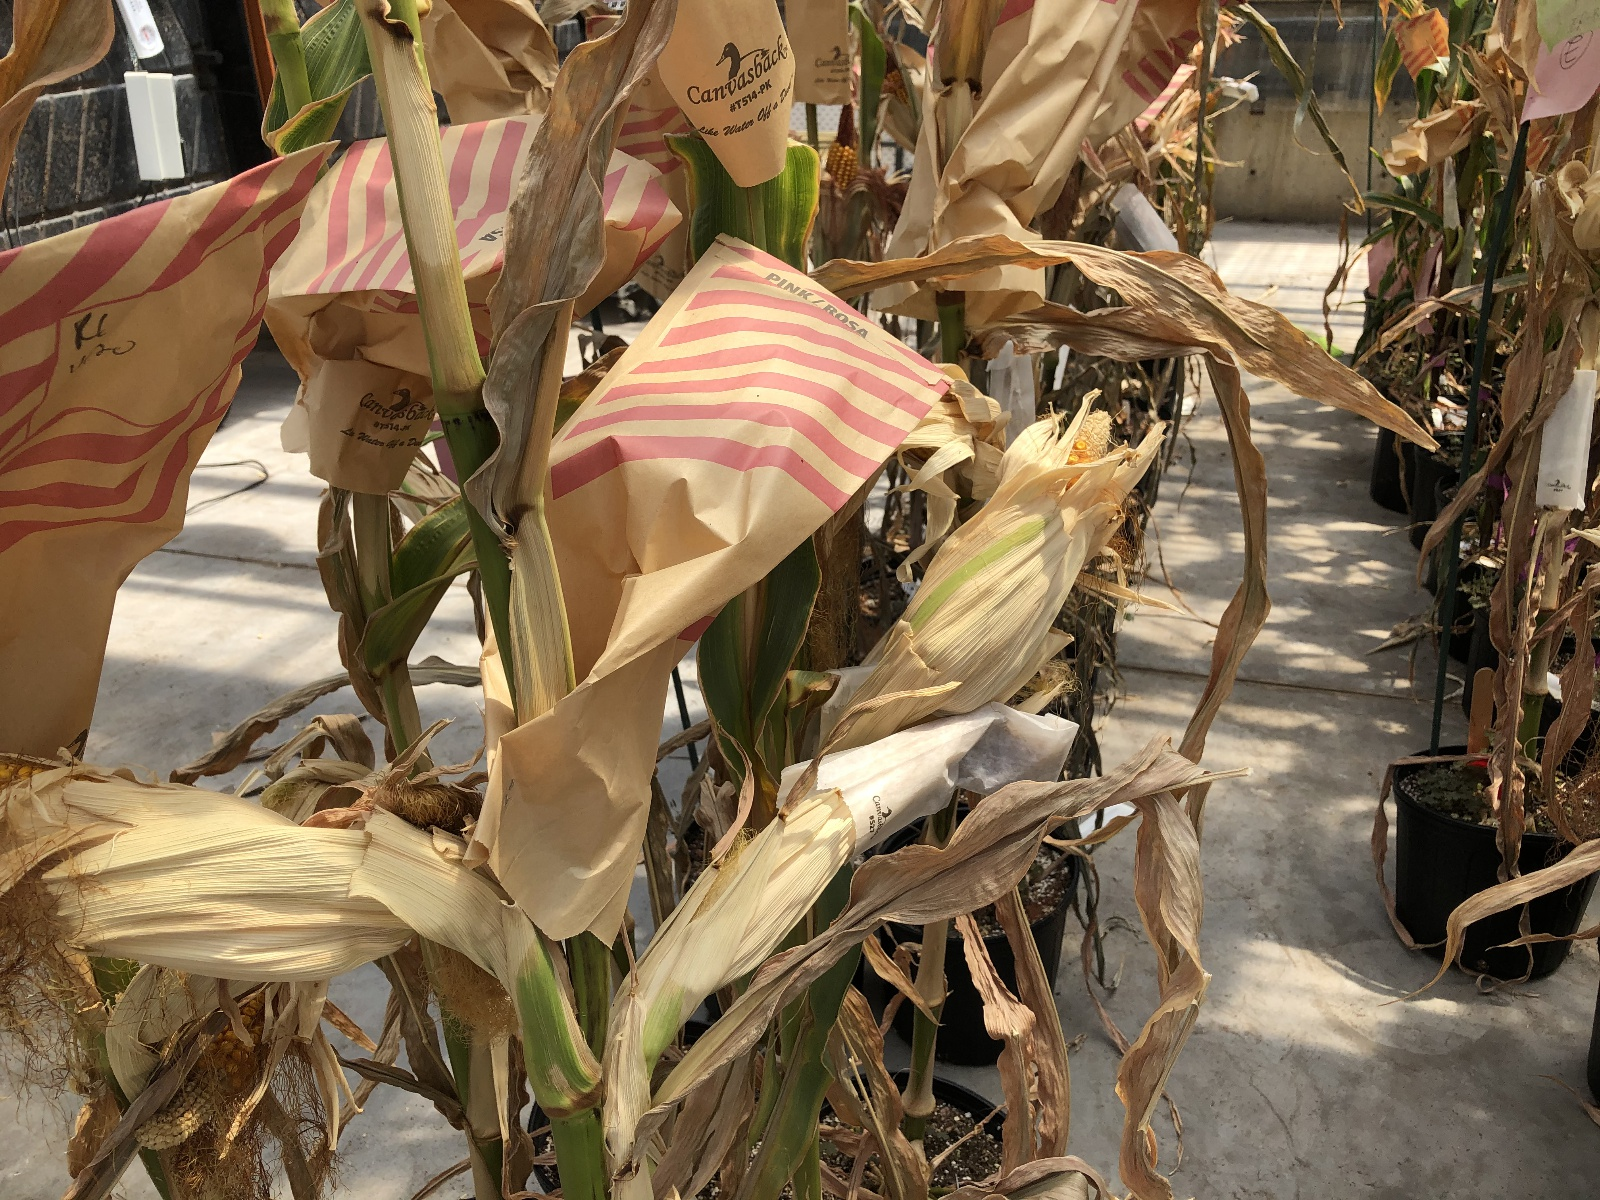ear: (3, 737, 435, 949), (884, 397, 1121, 692), (127, 982, 309, 1155), (825, 100, 878, 204)
